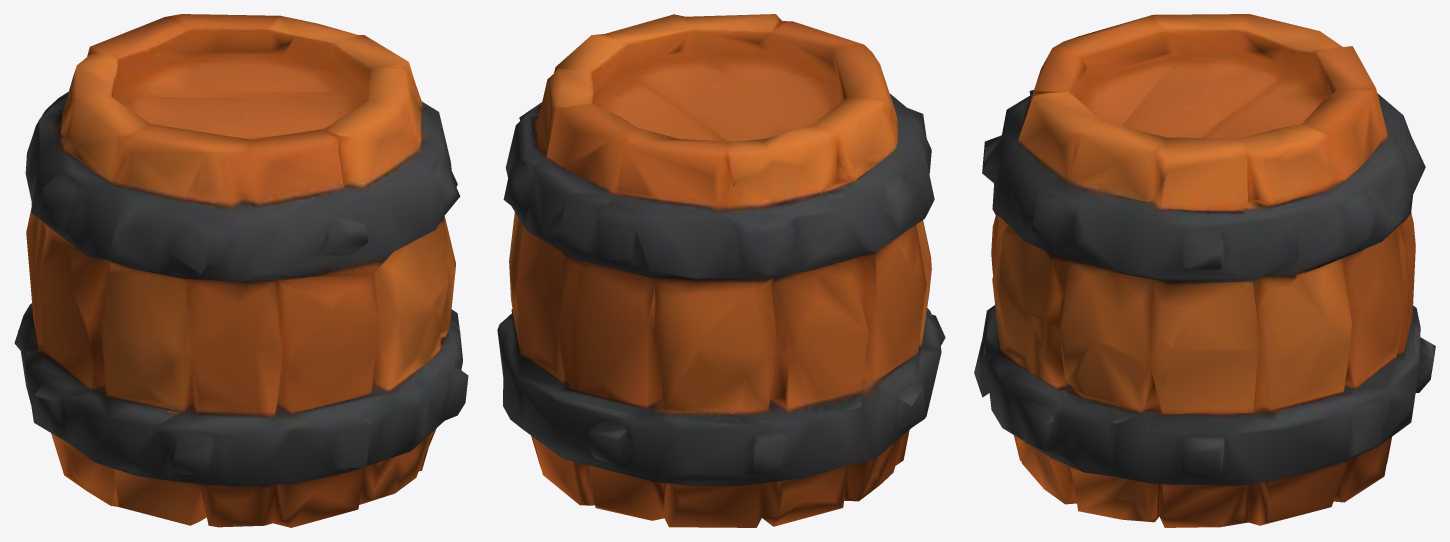
The model's file is barrel.glb.
3 renders of one model, left to right at view 1: azimuth 30°, elevation 25°; view 2: azimuth 150°, elevation 25°; view 3: azimuth 270°, elevation 25°, orthographic.
Visible parts, largest first — view 1: tripo_node_a2c410c8-8041-4afd-94a0-8a5ec38155f3; view 2: tripo_node_a2c410c8-8041-4afd-94a0-8a5ec38155f3; view 3: tripo_node_a2c410c8-8041-4afd-94a0-8a5ec38155f3.
Boxes of the visible parts, <box> form: tripo_node_a2c410c8-8041-4afd-94a0-8a5ec38155f3: <box>14,14,468,527</box>; tripo_node_a2c410c8-8041-4afd-94a0-8a5ec38155f3: <box>497,14,945,527</box>; tripo_node_a2c410c8-8041-4afd-94a0-8a5ec38155f3: <box>974,14,1435,527</box>.
Size of the model in its own units: 1 by 0.8848 by 0.9934.
Materials: 1 (1 with a texture image).
